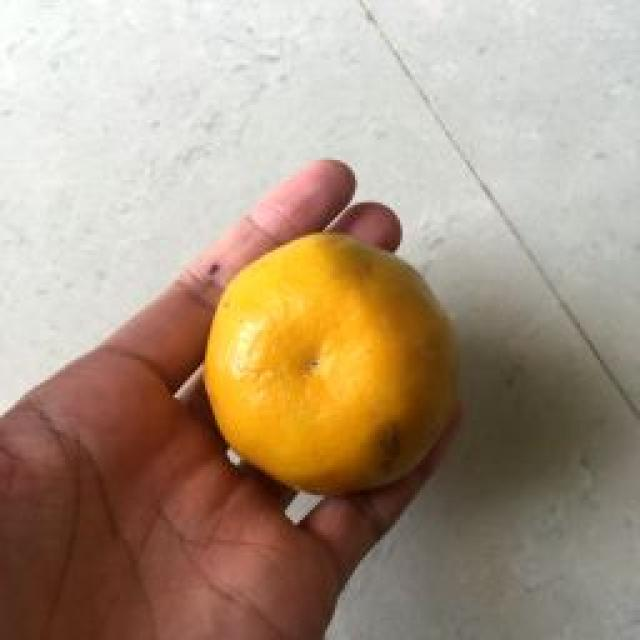Good_Orange: (202, 232, 458, 500)
